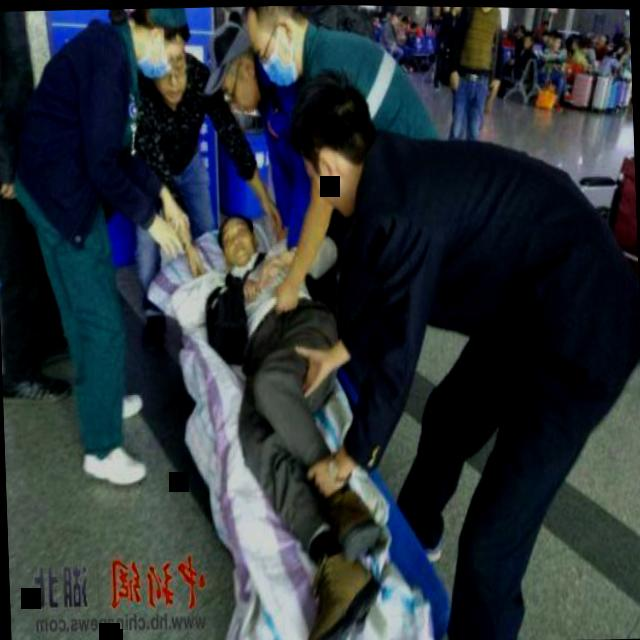Fall-Detected: (204, 177, 426, 640)
